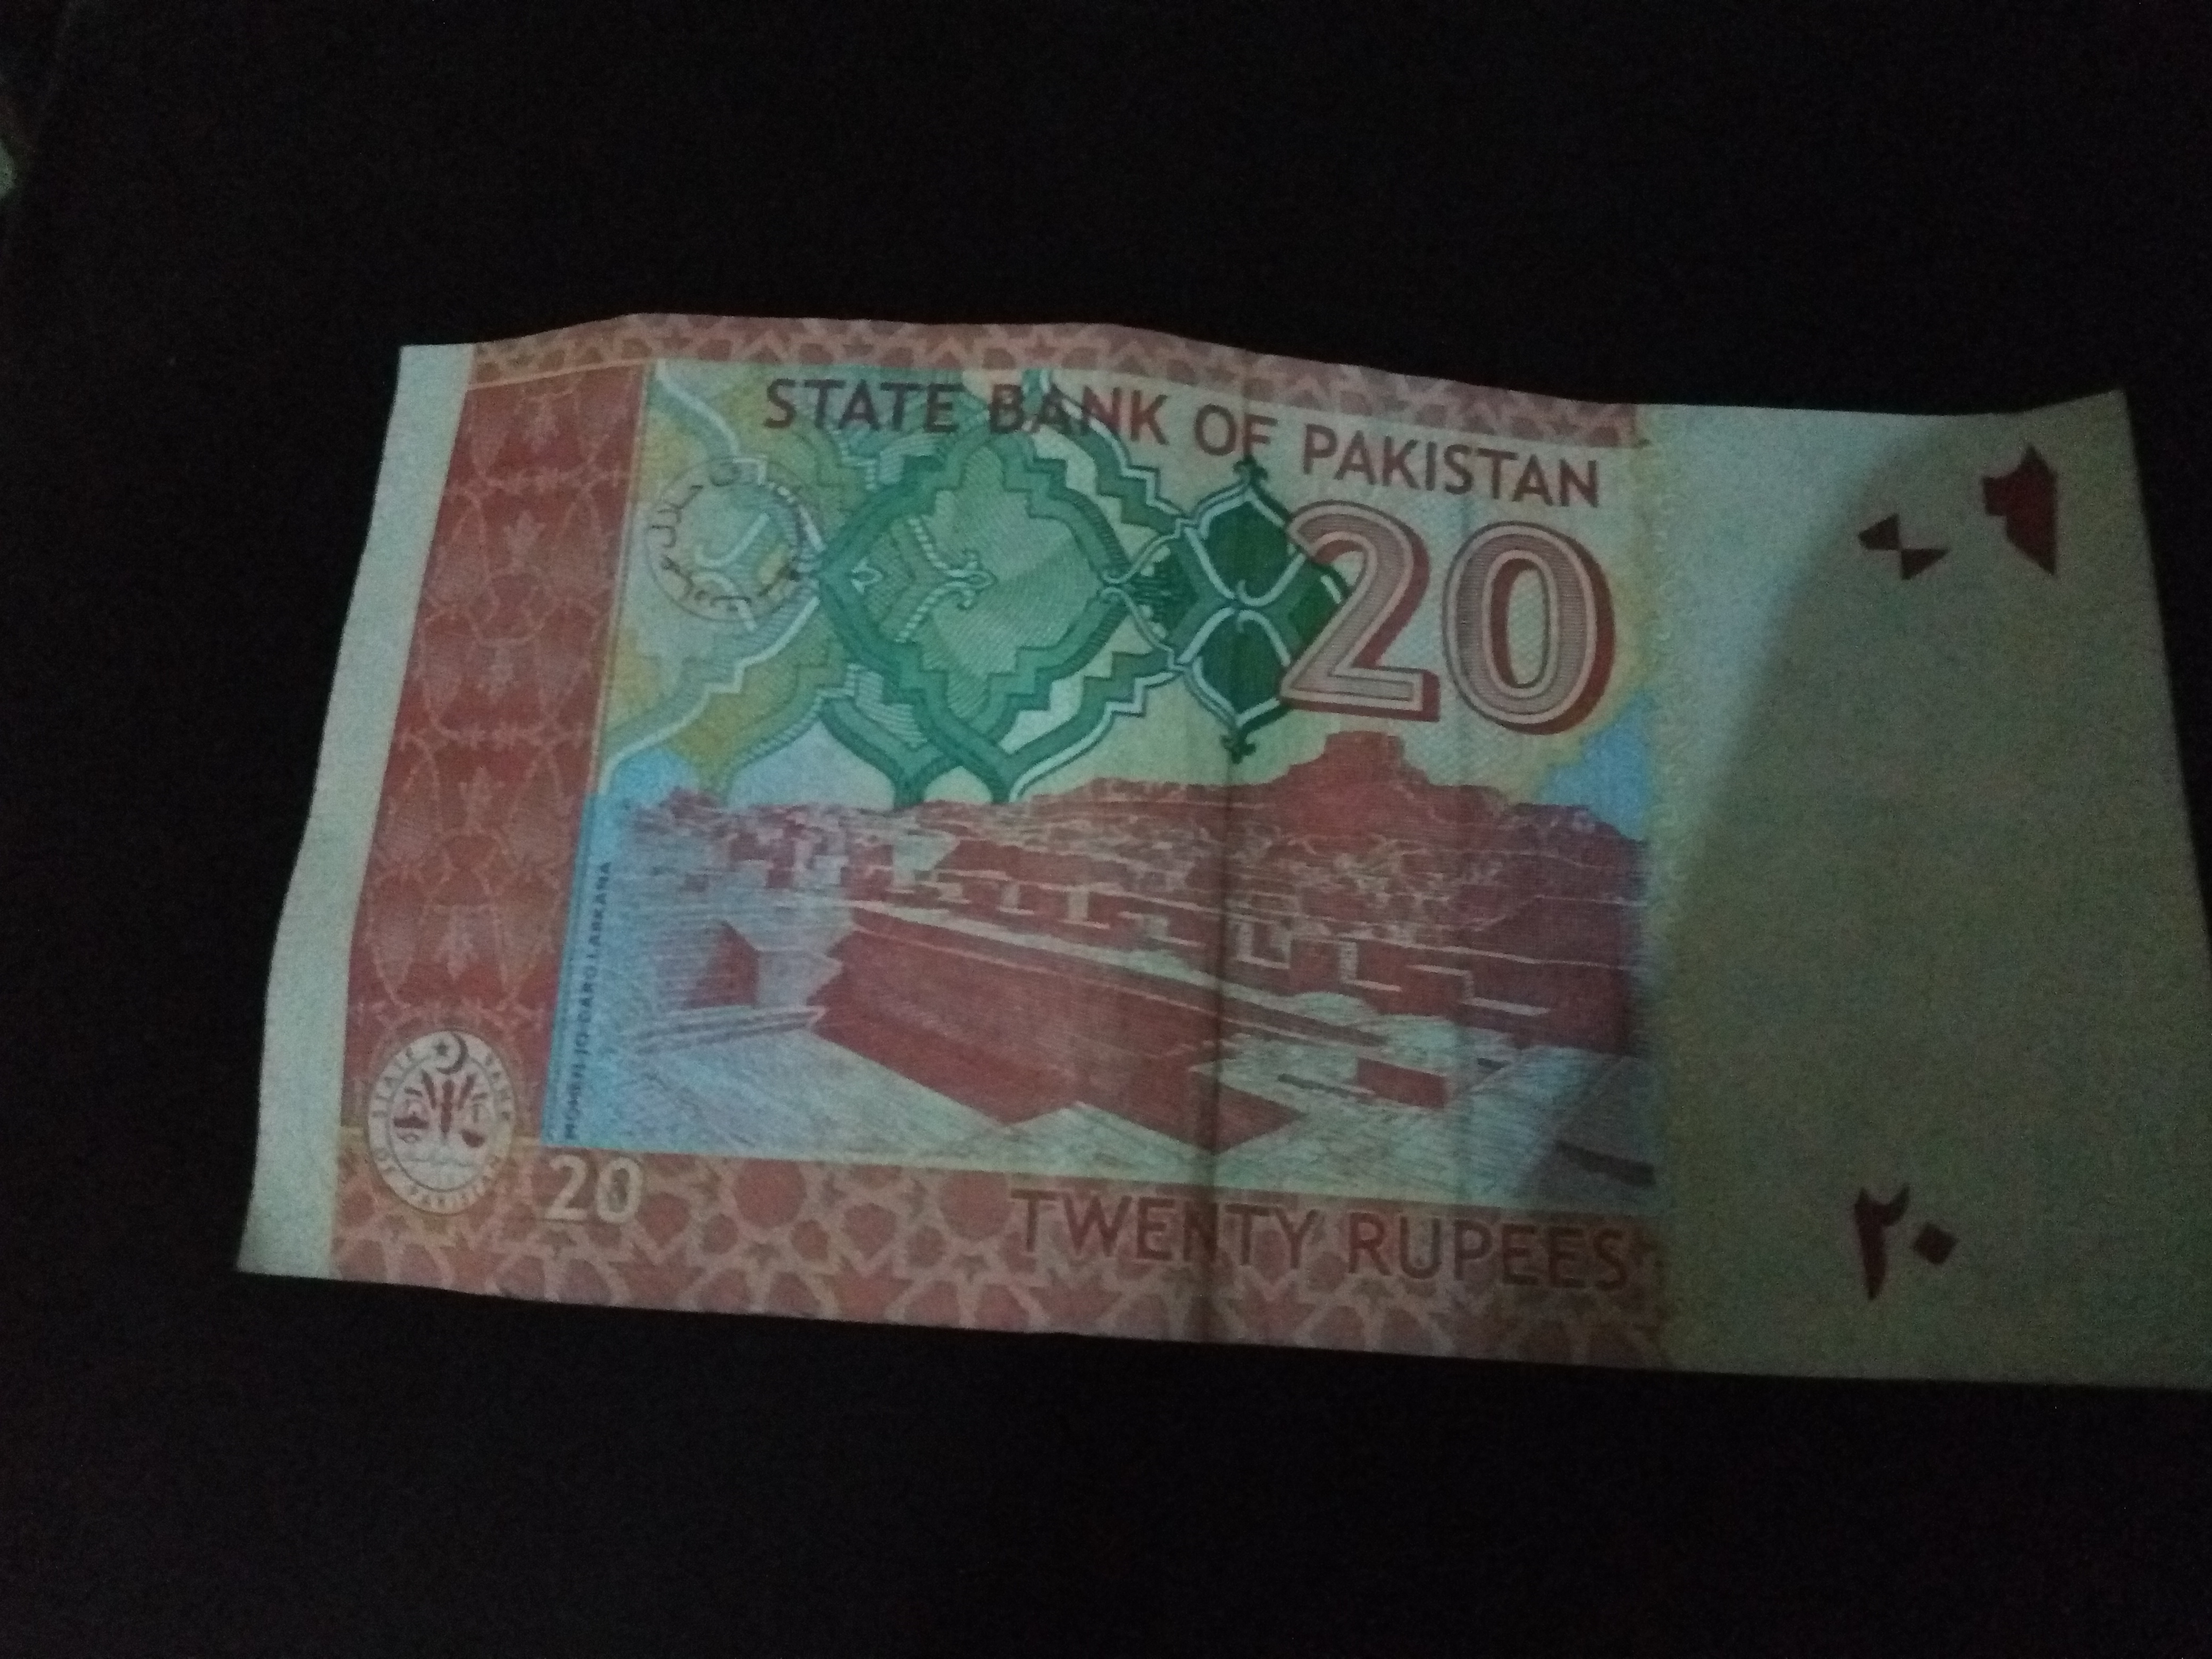20 rupee: (244, 296, 2168, 1429)
